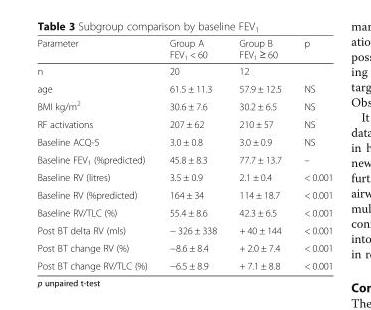table: (36, 37, 332, 271)
table column: (36, 37, 157, 271), (157, 37, 227, 271), (227, 37, 292, 271), (292, 37, 332, 271)
table column header: (36, 37, 332, 62)
table row: (36, 37, 332, 62), (36, 96, 332, 115), (36, 132, 332, 150), (36, 150, 332, 168), (36, 185, 332, 203), (36, 220, 332, 238), (36, 238, 332, 256), (36, 62, 332, 79), (36, 79, 332, 96), (36, 115, 332, 132), (36, 168, 332, 185), (36, 203, 332, 220), (36, 256, 332, 271)
